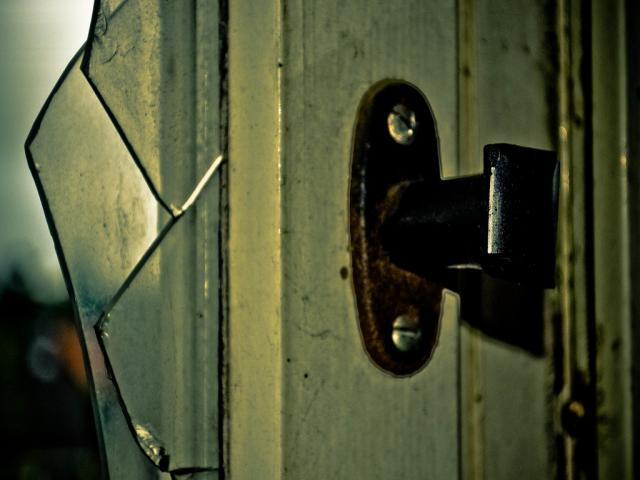Door-handle: (353, 79, 559, 378)
